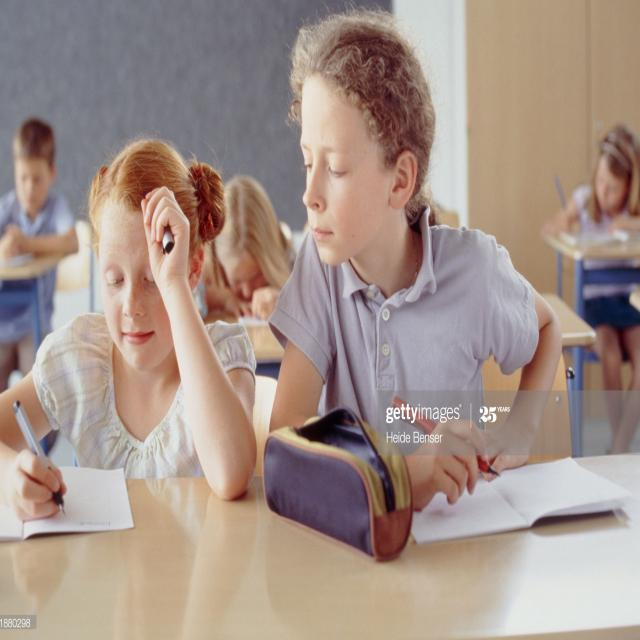cheating: (270, 7, 566, 386)
good: (10, 125, 264, 557)
